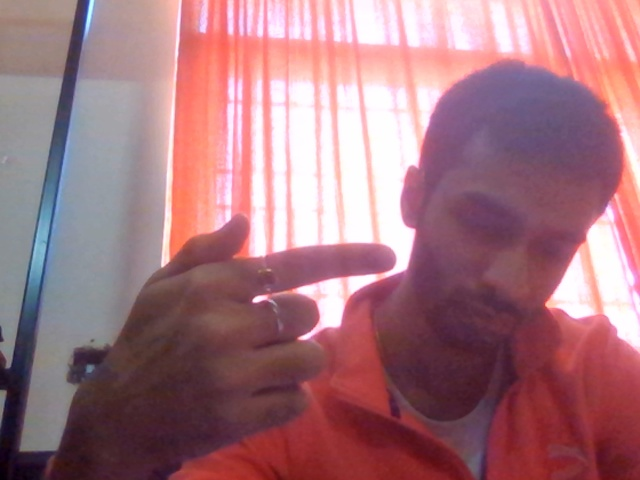G: (20, 200, 409, 480)
